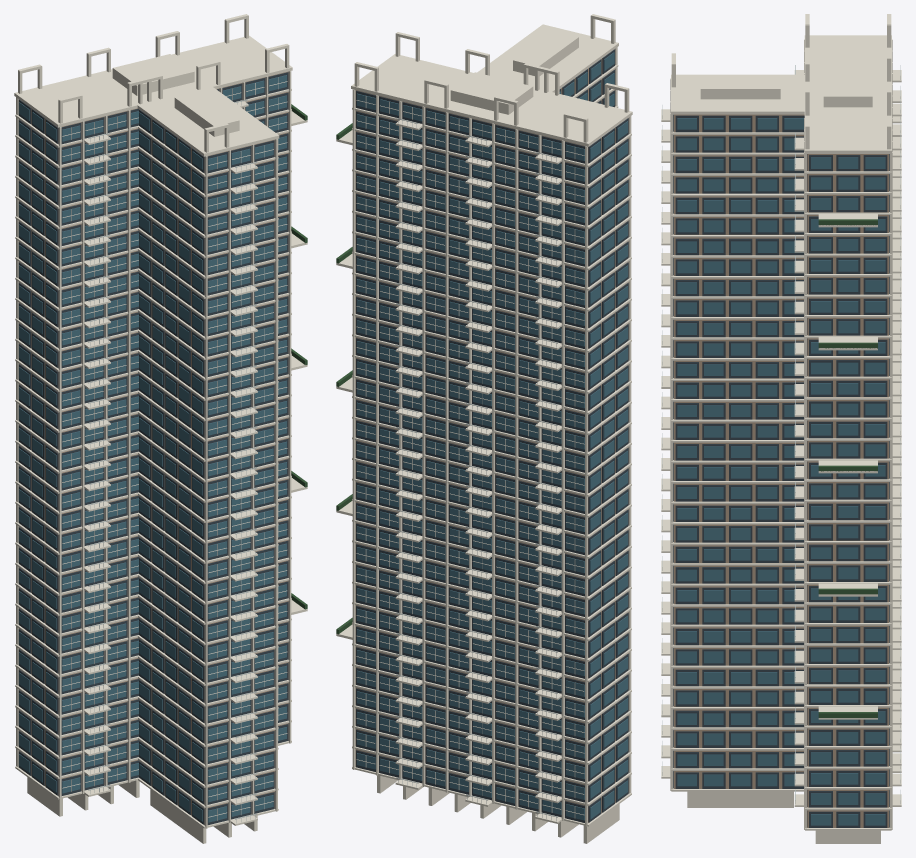
File: tower-d.glb
3 renders of one model, left to right at view 1: azimuth 30°, elevation 25°; view 2: azimuth 150°, elevation 25°; view 3: azimuth 270°, elevation 25°, orthographic.
Visible parts, largest first — view 1: glass, ivory, dark, sand, rail, leaf; view 2: ivory, glass, dark, sand, rail, leaf; view 3: ivory, glass, dark, sand, leaf, rail.
Part boxes in pixels (x1,y1,x2,y2): glass: (19, 75, 286, 822); ivory: (14, 14, 307, 843); dark: (18, 72, 288, 825); sand: (18, 71, 288, 824); rail: (88, 99, 257, 823); leaf: (291, 104, 307, 609); ivory: (336, 14, 632, 843); glass: (357, 52, 627, 820); dark: (356, 49, 628, 822); sand: (355, 49, 628, 822); rail: (396, 118, 557, 821); leaf: (336, 123, 352, 634); ivory: (661, 14, 901, 843); glass: (677, 118, 885, 825); dark: (673, 114, 889, 827); sand: (674, 114, 888, 827); leaf: (818, 219, 877, 717); rail: (662, 65, 900, 803).
Size of the model in its own units: 40.2 by 108 by 32.41.
